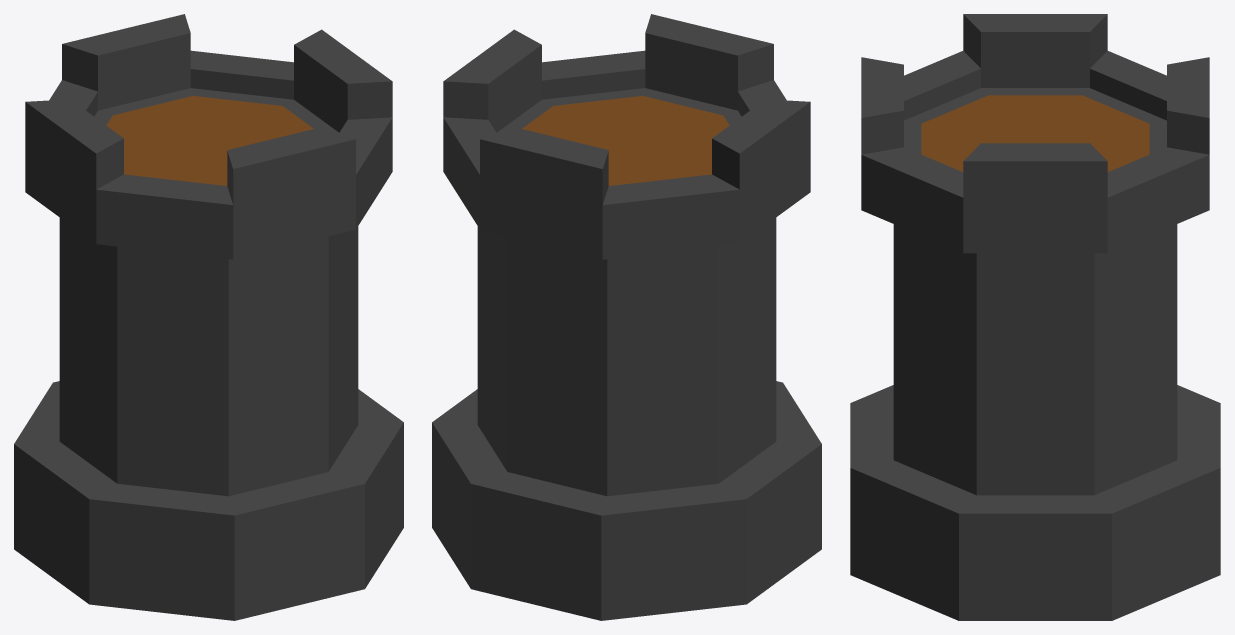
File: Tower.fbx
3 views of the same model, side by side, from view 1: azimuth 30°, elevation 25°; view 2: azimuth 150°, elevation 25°; view 3: azimuth 270°, elevation 25° (orthographic).
Parts seen in each view (by area): view 1: Cylinder; view 2: Cylinder; view 3: Cylinder.
Part boxes in pixels (x1,y1,x2,y2): Cylinder: [14, 14, 403, 620]; Cylinder: [432, 14, 821, 620]; Cylinder: [850, 14, 1220, 620].
Bounding box in the file's own units: 185 × 251 × 185.
